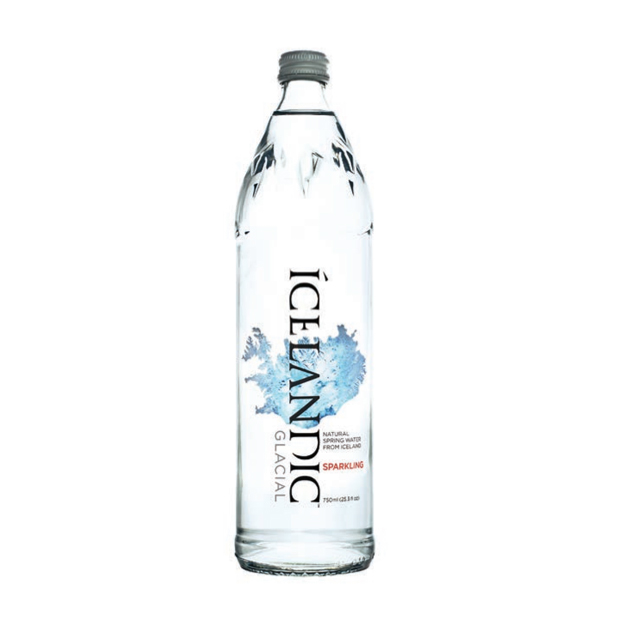glass_bottleww: (124, 28, 508, 615)
